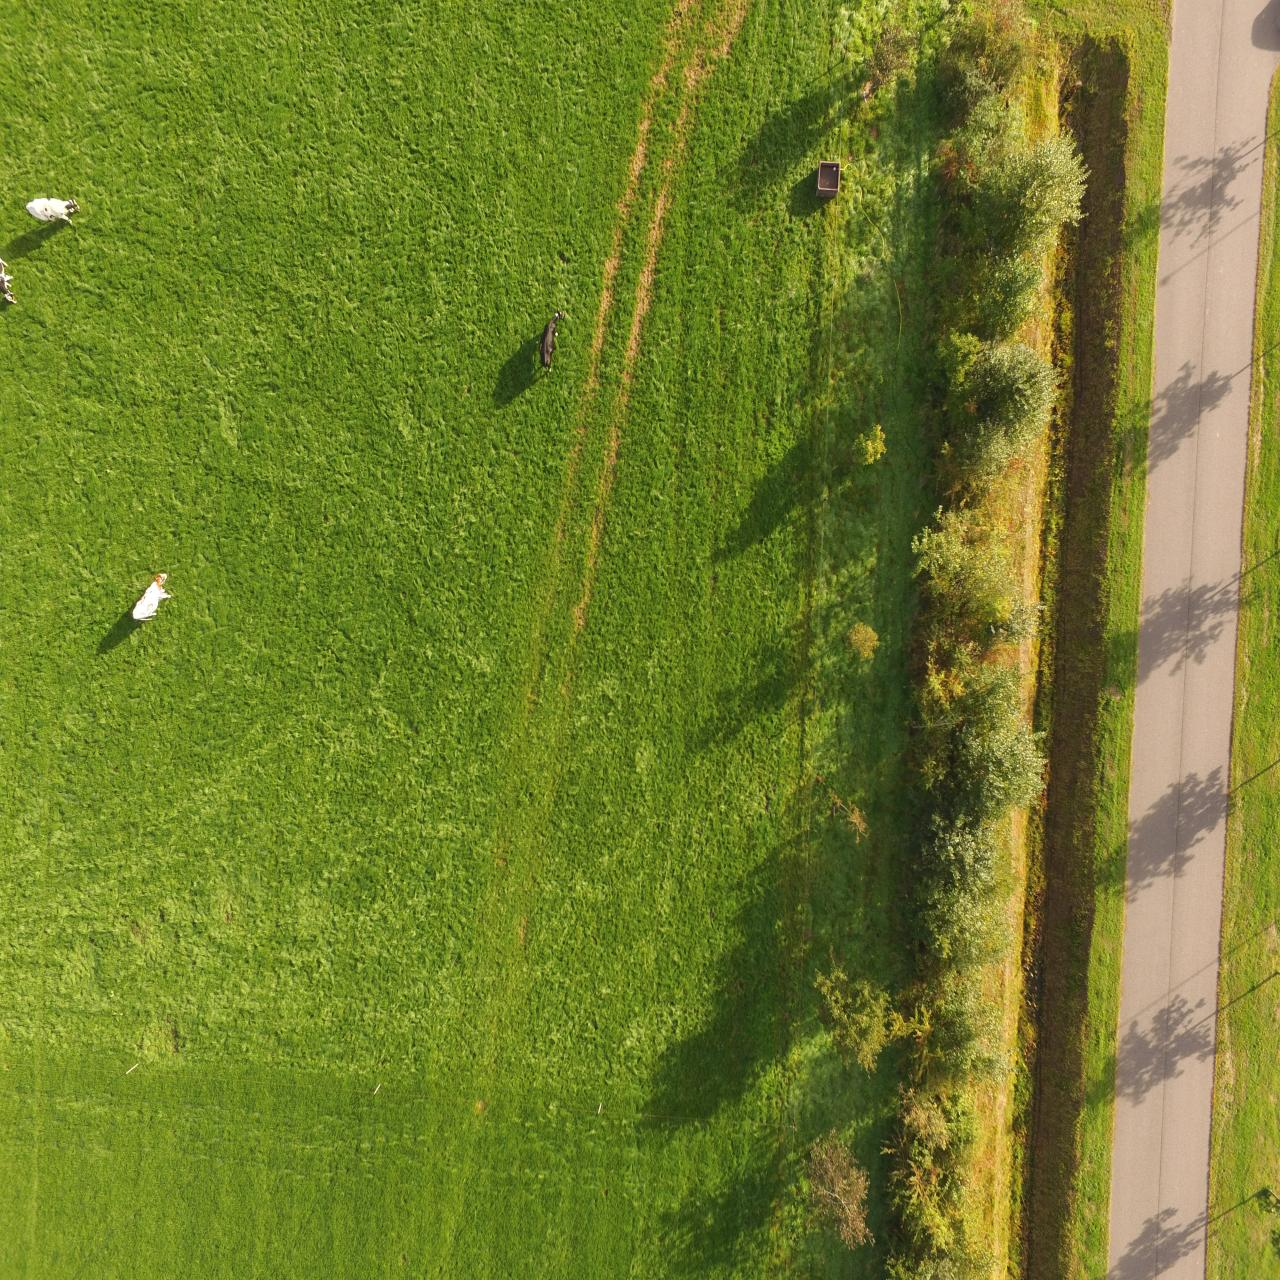cow: (130, 566, 175, 624), (538, 304, 566, 374), (23, 195, 81, 227)
